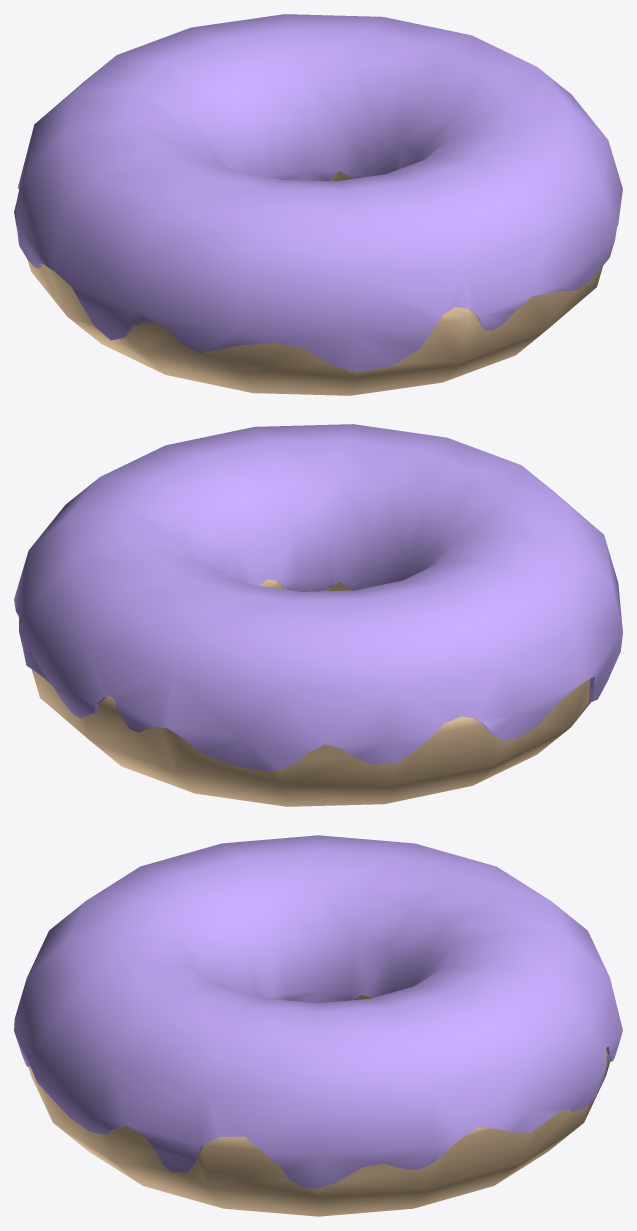
The model's file is pink_donut.glb.
3 views of the same model, one above another, from view 1: azimuth 30°, elevation 25°; view 2: azimuth 150°, elevation 25°; view 3: azimuth 270°, elevation 25° (orthographic).
Visible parts, largest first — view 1: Glaze, Donut; view 2: Glaze, Donut; view 3: Glaze, Donut.
Part boxes in pixels (bbox=[...]): Glaze: bbox=[14, 14, 622, 372]; Donut: bbox=[27, 171, 602, 395]; Glaze: bbox=[14, 424, 622, 771]; Donut: bbox=[31, 579, 591, 806]; Glaze: bbox=[14, 835, 622, 1188]; Donut: bbox=[28, 994, 609, 1216].
Size of the model in its own units: 3.13 by 1.09 by 3.13.
Materials: 2 (2 with a texture image).
